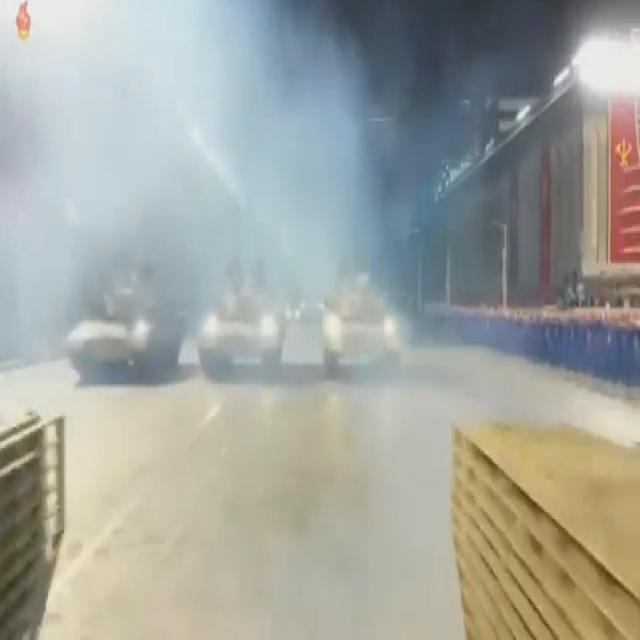north tank: (320, 252, 445, 409), (192, 258, 292, 390)
